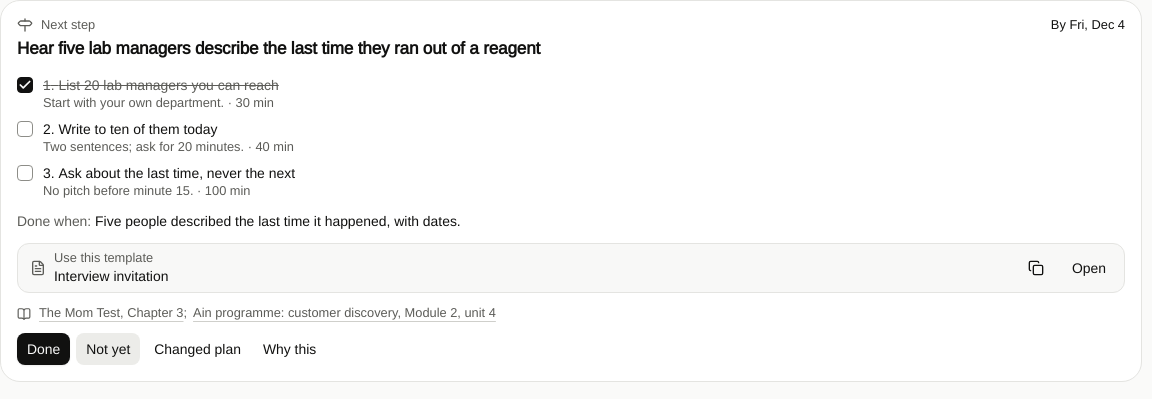
Test case: StepCard › Not yet moves the date in one press
Click the button "Not yet" at (108, 349), box [76,333,140,365]
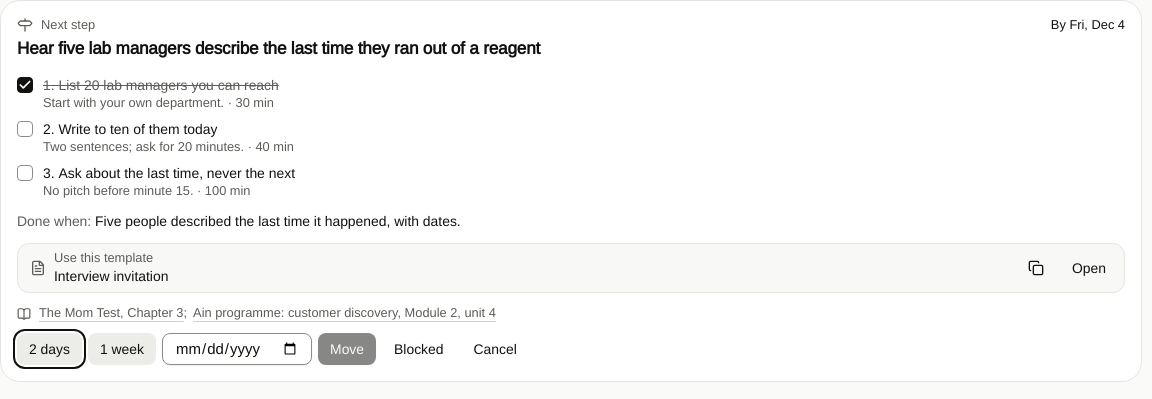
Click the button "1 week" at (122, 349), box [88,333,156,365]
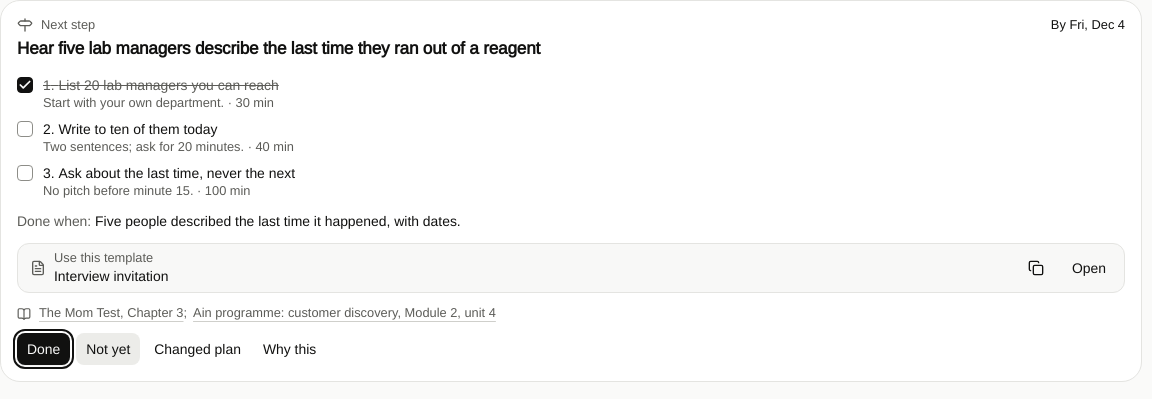
Expected: the button "Not yet" is shown, [76,333,140,365]
